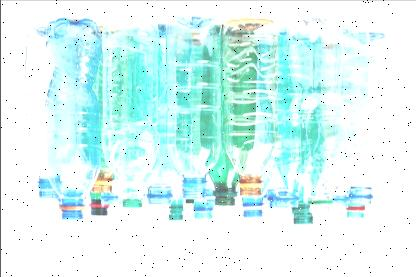Plastic Bottle: (44, 17, 102, 221), (163, 14, 223, 204), (332, 23, 392, 208), (100, 16, 160, 194), (219, 18, 278, 198), (20, 25, 76, 201)
